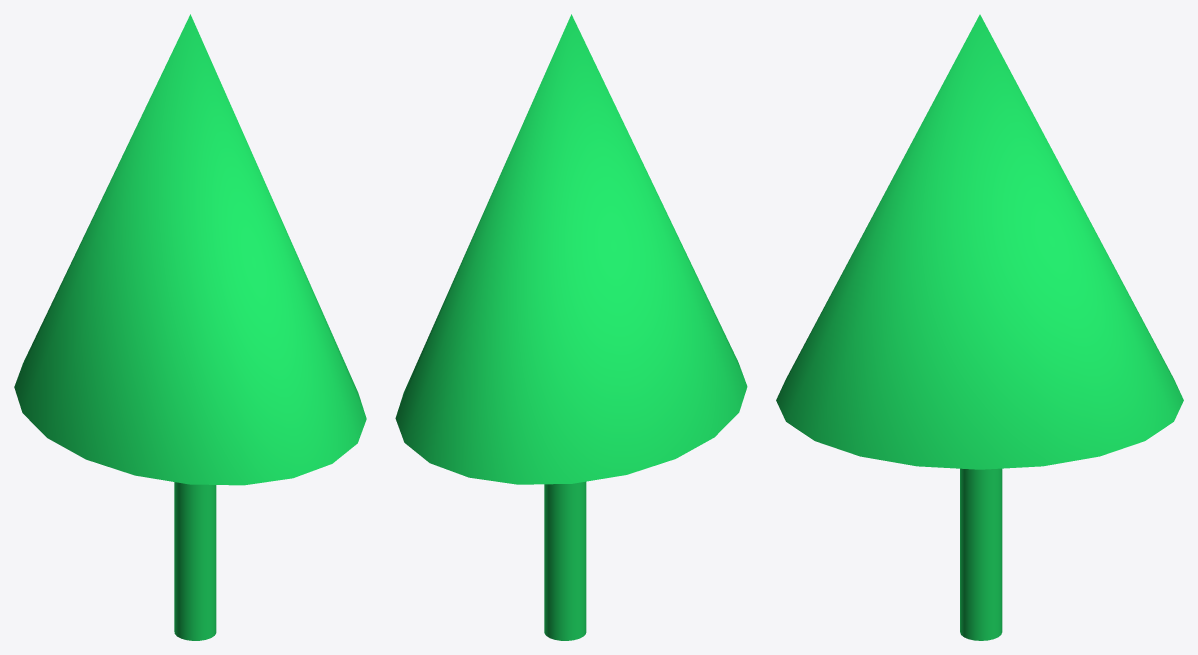
Rendered from Tree.fbx.
3 renders of one model, left to right at view 1: azimuth 30°, elevation 25°; view 2: azimuth 150°, elevation 25°; view 3: azimuth 270°, elevation 25°, orthographic.
Visible parts, largest first — view 1: pCone4; view 2: pCone4; view 3: pCone4.
Boxes of the visible parts, x1,y1,x2,y2 form: pCone4: (14, 14, 366, 640); pCone4: (395, 14, 747, 640); pCone4: (776, 14, 1183, 640).
Bounding box in the file's own units: 6.81 × 14.08 × 8.46.
